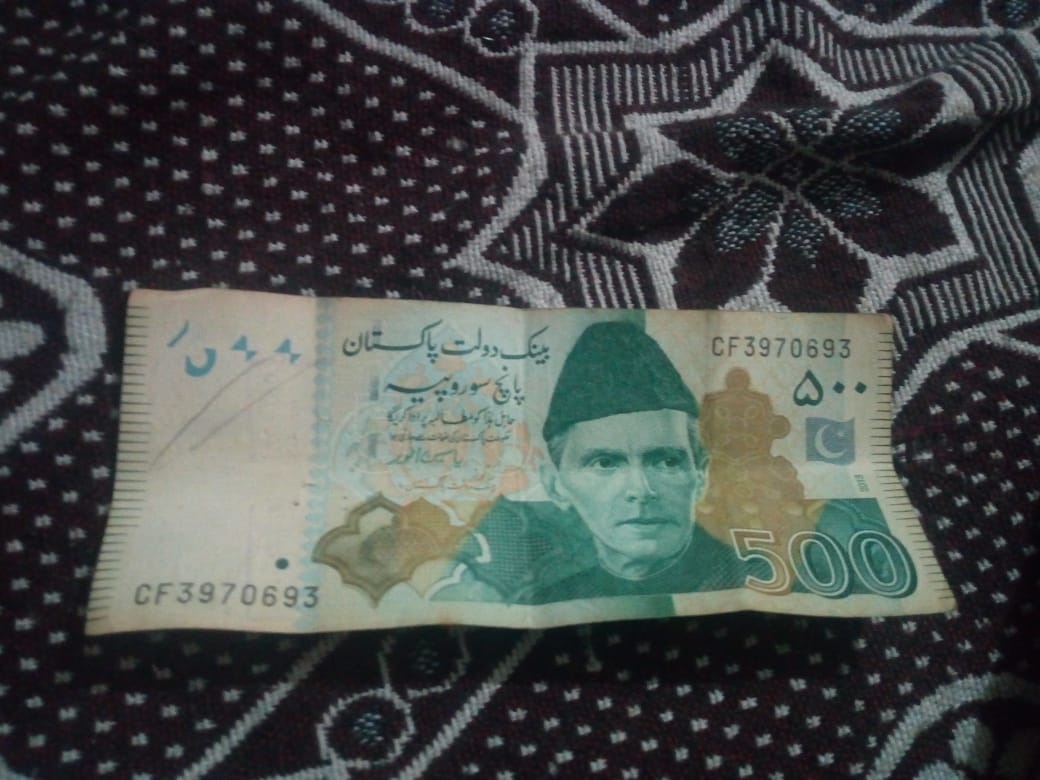500 rupee: (85, 277, 951, 646)
